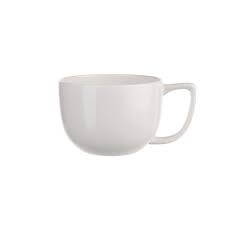cup: (58, 72, 197, 155)
